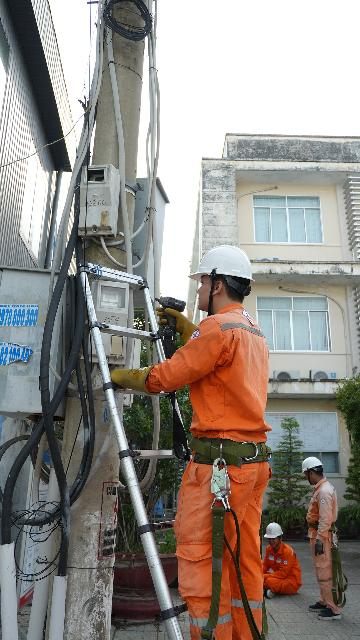gloves: (92, 363, 162, 398), (154, 300, 203, 346)
harness: (174, 412, 270, 477)
helmet: (169, 242, 276, 298)
